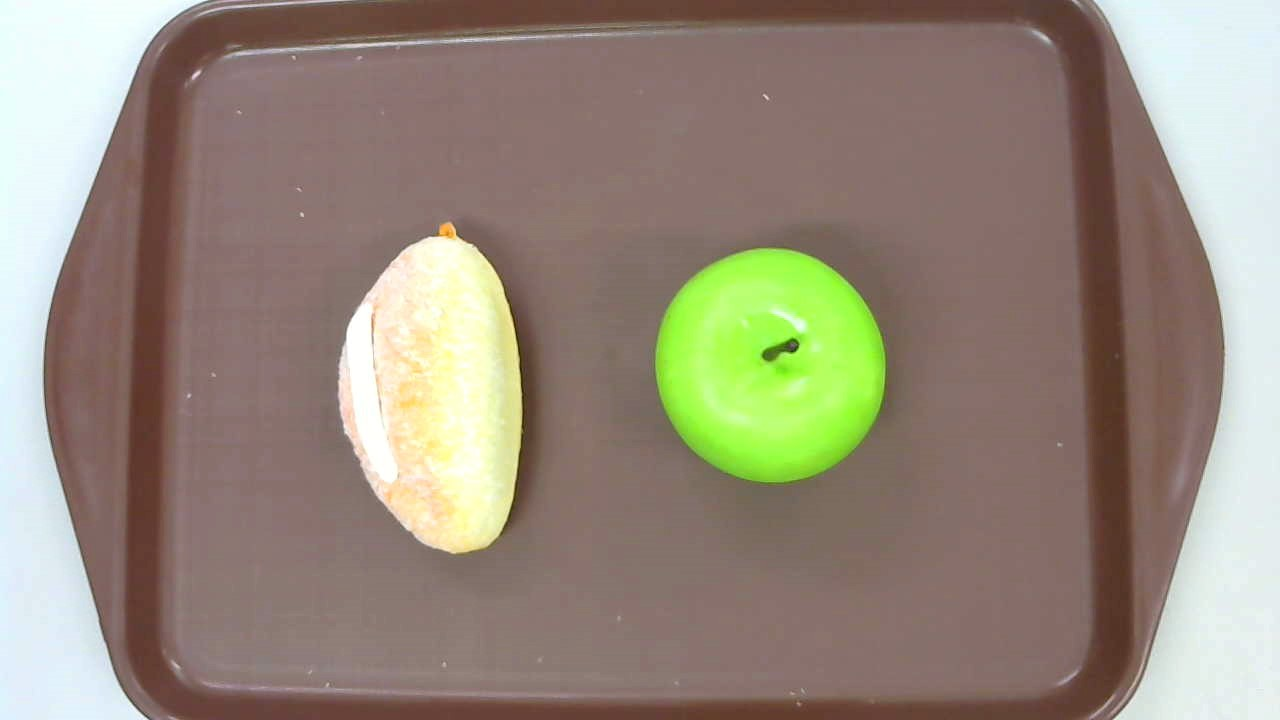coconut: (336, 222, 524, 555)
green apple: (655, 248, 885, 484)
